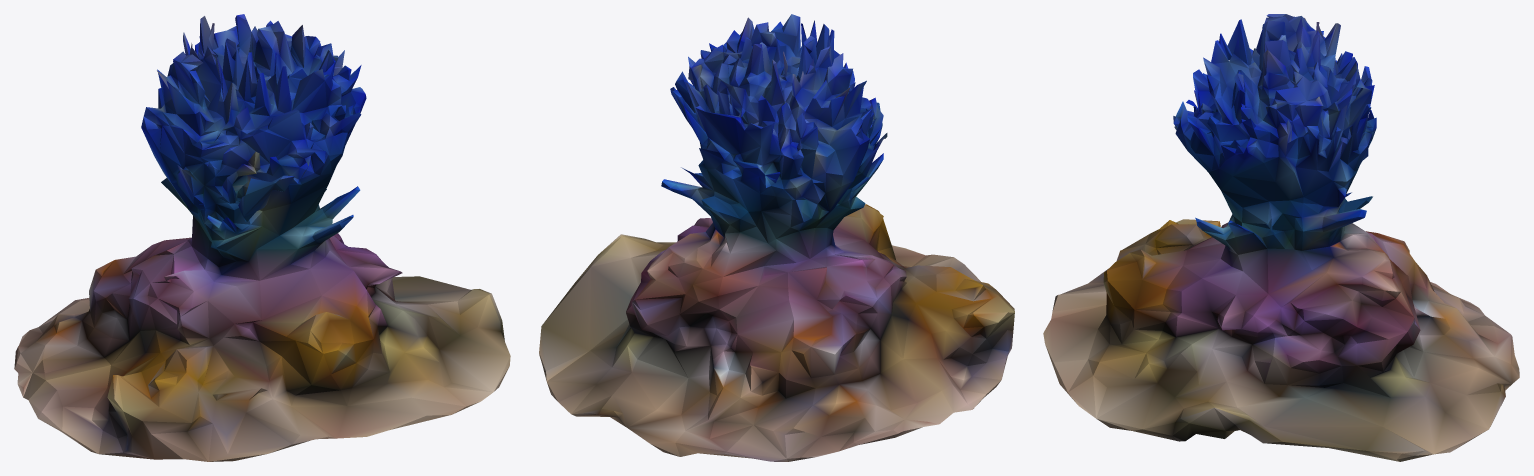
File: anem1.glb
The picture shows the model from 3 angles, left to right: view 1: azimuth 30°, elevation 25°; view 2: azimuth 150°, elevation 25°; view 3: azimuth 270°, elevation 25°; orthographic projection. The views are drawn at different scales.
Parts seen in each view (by area): view 1: anem1; view 2: anem1; view 3: anem1.
Part boxes in pixels (box(x1,y1,x2,y2)): anem1: box(14, 14, 510, 461); anem1: box(539, 14, 1014, 461); anem1: box(1043, 14, 1519, 461).
Bounding box in the file's own units: 1.68 × 1.36 × 1.67.
